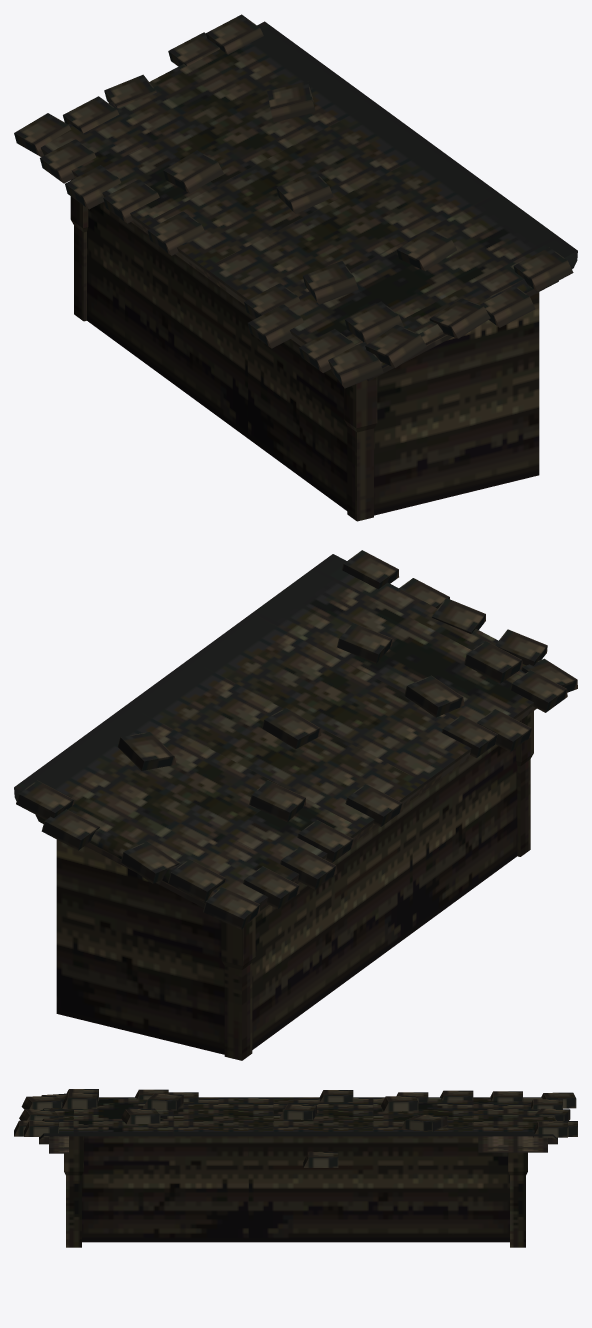
File: EnvBdgMD_WoodHouse_A_Outdoor_Roof_A_Broken.FBX
3 views of the same model, one above another, from view 1: azimuth 30°, elevation 25°; view 2: azimuth 150°, elevation 25°; view 3: azimuth 270°, elevation 25° (orthographic). The views are drawn at different scales.
Parts seen in each view (by area): view 1: EnvBdgMD_WoodHouse_A_Outdoor_Roof_A_Broken; view 2: EnvBdgMD_WoodHouse_A_Outdoor_Roof_A_Broken; view 3: EnvBdgMD_WoodHouse_A_Outdoor_Roof_A_Broken.
Part boxes in pixels (x1,y1,x2,y2): EnvBdgMD_WoodHouse_A_Outdoor_Roof_A_Broken: (14, 14, 577, 521); EnvBdgMD_WoodHouse_A_Outdoor_Roof_A_Broken: (14, 550, 577, 1060); EnvBdgMD_WoodHouse_A_Outdoor_Roof_A_Broken: (14, 1089, 577, 1247).
Bounding box in the file's own units: 238 × 210 × 565.
1 material, 1 textured.
